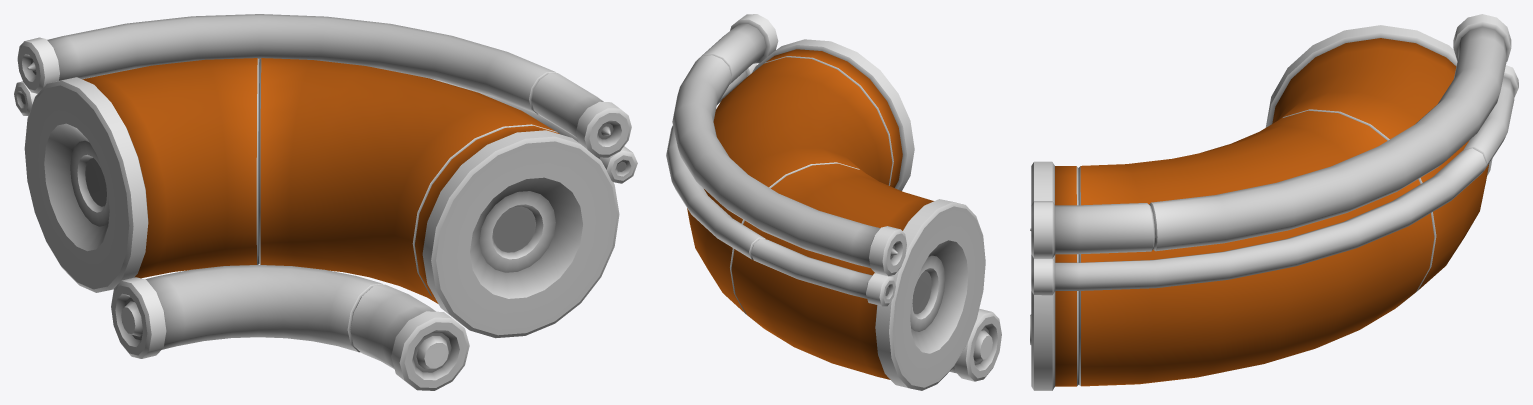
The model's file is deco_pipe_curve_L.FBX.
The picture shows the model from 3 angles, left to right: view 1: azimuth 30°, elevation 25°; view 2: azimuth 150°, elevation 25°; view 3: azimuth 270°, elevation 25°; orthographic projection. The views are drawn at different scales.
Visible parts, largest first — view 1: deco_pipe_curve_L; view 2: deco_pipe_curve_L; view 3: deco_pipe_curve_L.
Boxes of the visible parts, bbox=[...] form: deco_pipe_curve_L: bbox=[14, 14, 637, 390]; deco_pipe_curve_L: bbox=[666, 14, 1001, 390]; deco_pipe_curve_L: bbox=[1030, 14, 1518, 390].
Bounding box in the file's own units: 1.4 × 0.8064 × 1.4.
